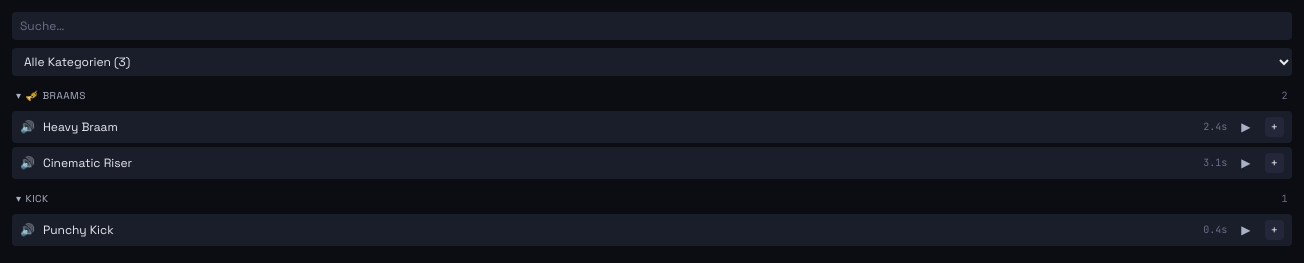
SoundLibrary › search filters by label substring (case-insensitive)
Type "riser" into the search field with placeholder "Suche…" at (652, 26), box top-left (12, 12), bottom-right (1292, 40)
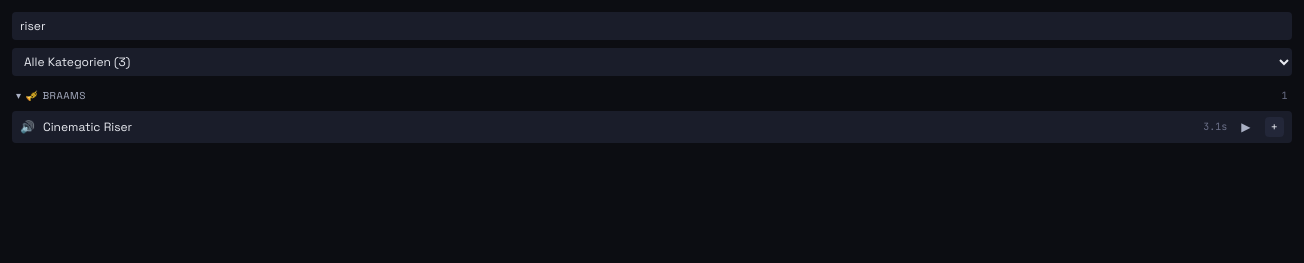
Expected: the text "Cinematic Riser" is shown, top-left (43, 119), bottom-right (132, 135)
Now the text "Heavy Braam" is gone
Now the text "Punchy Kick" is gone
